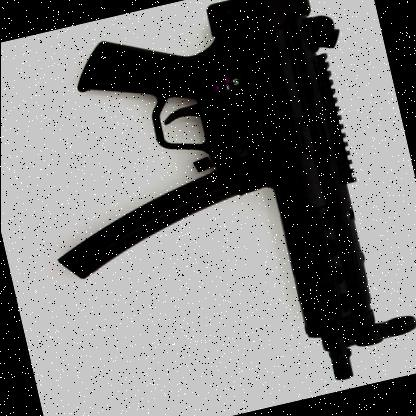rifle: (11, 0, 416, 413)
